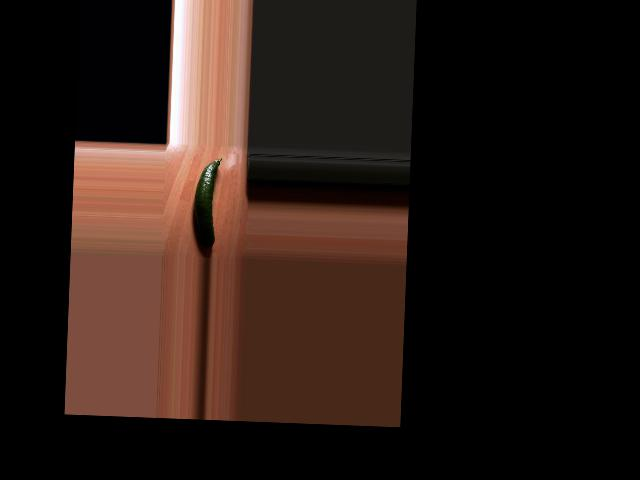cucumber: (191, 156, 221, 249)
